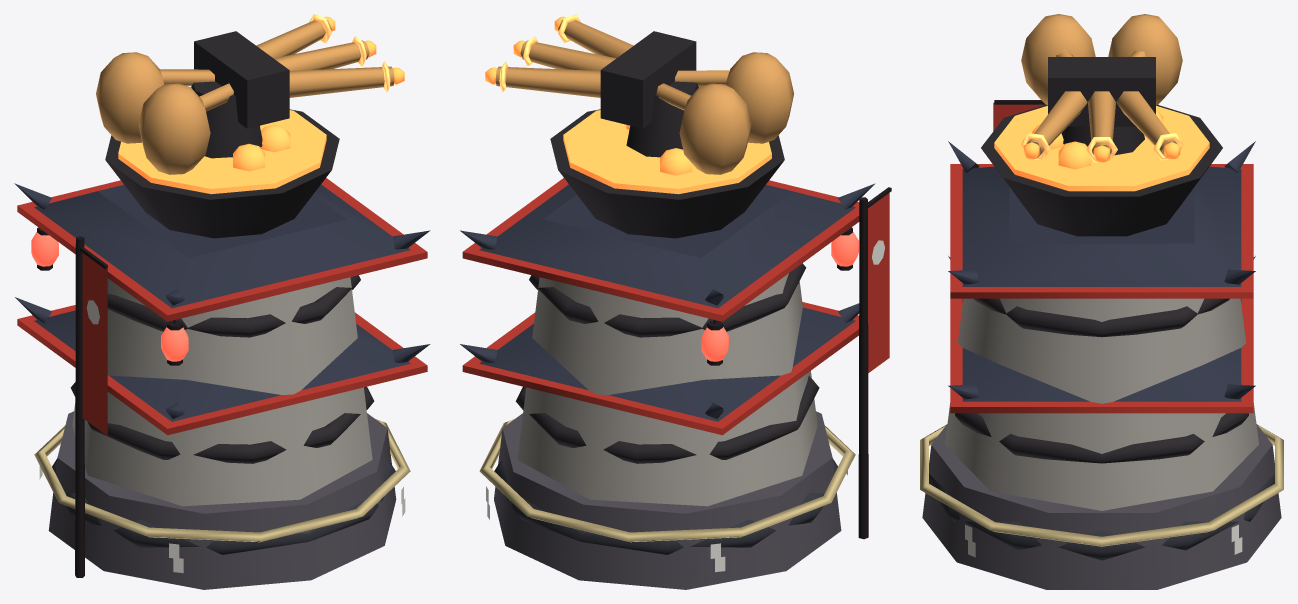
The model's file is tower_flame_wildfire.glb.
The picture shows the model from 3 angles, left to right: view 1: azimuth 30°, elevation 25°; view 2: azimuth 150°, elevation 25°; view 3: azimuth 270°, elevation 25°; orthographic projection.
Parts seen in each view (by area): view 1: body, base, deco_eave_0_roof, brazier_bowl, deco_eave_1_roof, deco_eave_0_rim, coals, deco_eave_1_rim, manifold, gas_tank_0, deco_shimenawa_rope, gas_tank_1 (+16 smaller); view 2: body, base, deco_eave_0_roof, brazier_bowl, deco_eave_1_roof, coals, deco_eave_0_rim, deco_eave_1_rim, manifold, gas_tank_1, deco_shimenawa_rope, body_band_0.15 (+15 smaller); view 3: body, base, deco_eave_0_roof, brazier_bowl, coals, deco_eave_0_rim, deco_eave_1_roof, deco_eave_1_rim, deco_shimenawa_rope, manifold, body_band_0.15, body_band_0.3 (+11 smaller).
Boxes of the visible parts, x1,y1,x2,y2 form: body: (72,277,372,506); base: (48,411,396,589); deco_eave_0_roof: (34,184,410,308); brazier_bowl: (105,109,339,238); deco_eave_1_roof: (34,310,410,421); deco_eave_0_rim: (17,178,427,321); coals: (118,110,326,194); deco_eave_1_rim: (17,305,427,435); manifold: (194,31,289,128); gas_tank_0: (138,83,210,174); deco_shimenawa_rope: (34,419,410,542); gas_tank_1: (96,52,164,143); body: (517,273,817,506); base: (494,411,841,589); deco_eave_0_roof: (479,184,855,308); brazier_bowl: (550,109,784,238); deco_eave_1_roof: (479,307,855,421); coals: (563,110,771,194); deco_eave_0_rim: (462,178,859,321); deco_eave_1_rim: (462,302,858,435); manifold: (600,31,696,128); gas_tank_1: (679,83,751,174); deco_shimenawa_rope: (479,419,855,542); body_band_0.15: (515,376,819,463); body: (945,298,1258,510); base: (922,424,1281,589); deco_eave_0_roof: (962,166,1241,286); brazier_bowl: (981,104,1222,236); coals: (994,105,1209,191); deco_eave_0_rim: (950,164,1253,298); deco_eave_1_roof: (962,299,1241,401); deco_eave_1_rim: (950,298,1253,413); deco_shimenawa_rope: (920,424,1283,546); manifold: (1048,57,1155,126); body_band_0.15: (955,413,1248,463); body_band_0.3: (974,298,1229,337).
Size of the model in its own units: 0.4387 by 0.5746 by 0.4052.
